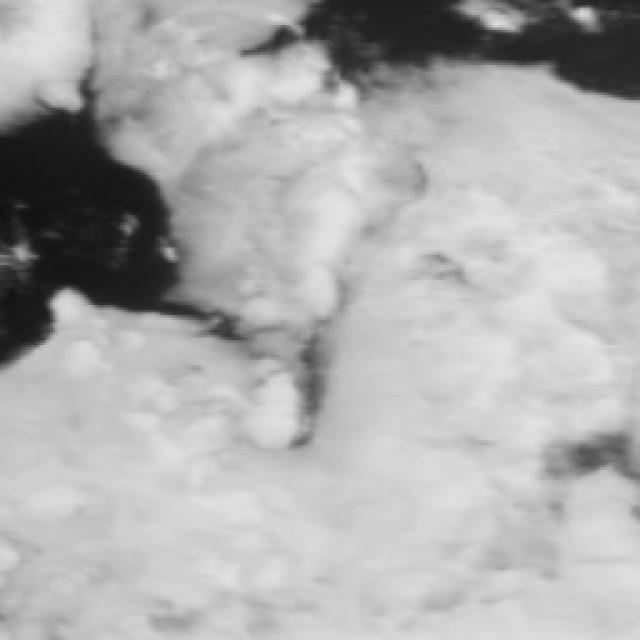CB: (2, 377, 205, 640), (210, 452, 414, 640), (428, 475, 640, 640), (196, 116, 386, 298), (484, 120, 640, 328), (365, 286, 541, 470)
